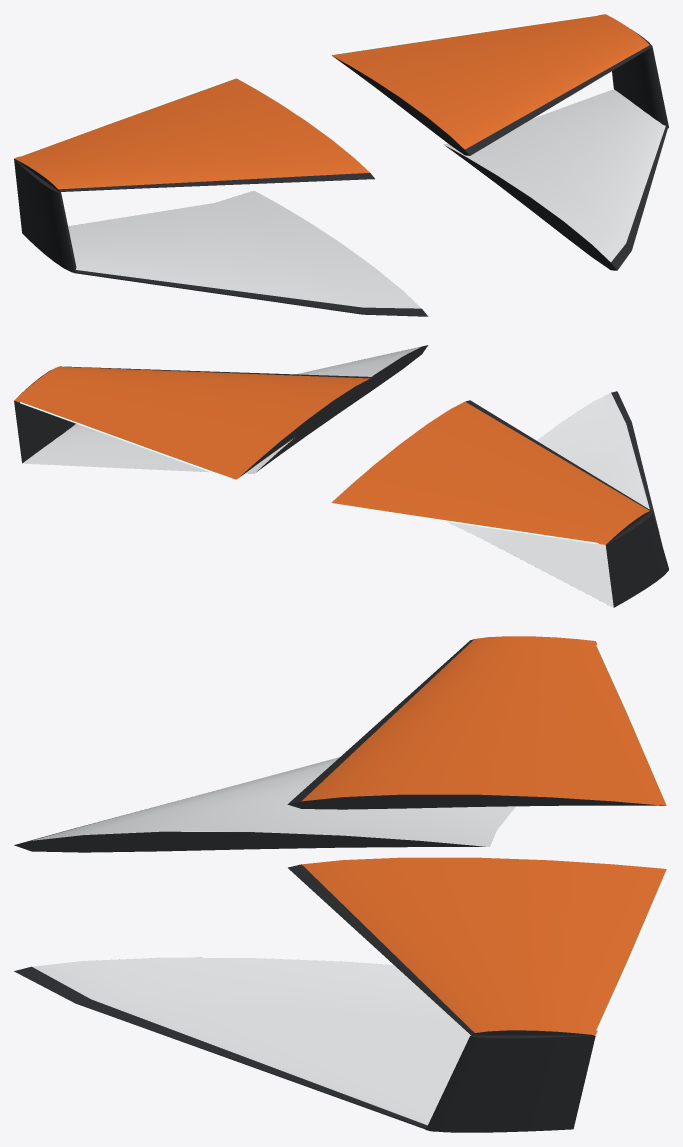
The model's file is nomad_wing_lg.fbx.
3 renders of one model, top to bottom at view 1: azimuth 30°, elevation 25°; view 2: azimuth 150°, elevation 25°; view 3: azimuth 270°, elevation 25°, orthographic. The views are drawn at different scales.
Visible parts, largest first — view 1: Wing_Box_L, Wing_Box_R; view 2: Wing_Box_L, Wing_Box_R; view 3: Wing_Box_R, Wing_Box_L.
Part boxes in pixels (x1=…): Wing_Box_L: x1=14, y1=78, x2=428, y2=316; Wing_Box_R: x1=332, y1=14, x2=668, y2=270; Wing_Box_L: x1=331, y1=391, x2=668, y2=607; Wing_Box_R: x1=14, y1=345, x2=428, y2=479; Wing_Box_R: x1=14, y1=857, x2=668, y2=1132; Wing_Box_L: x1=14, y1=636, x2=668, y2=852.
Size of the model in its own units: 357 by 45.33 by 246.
